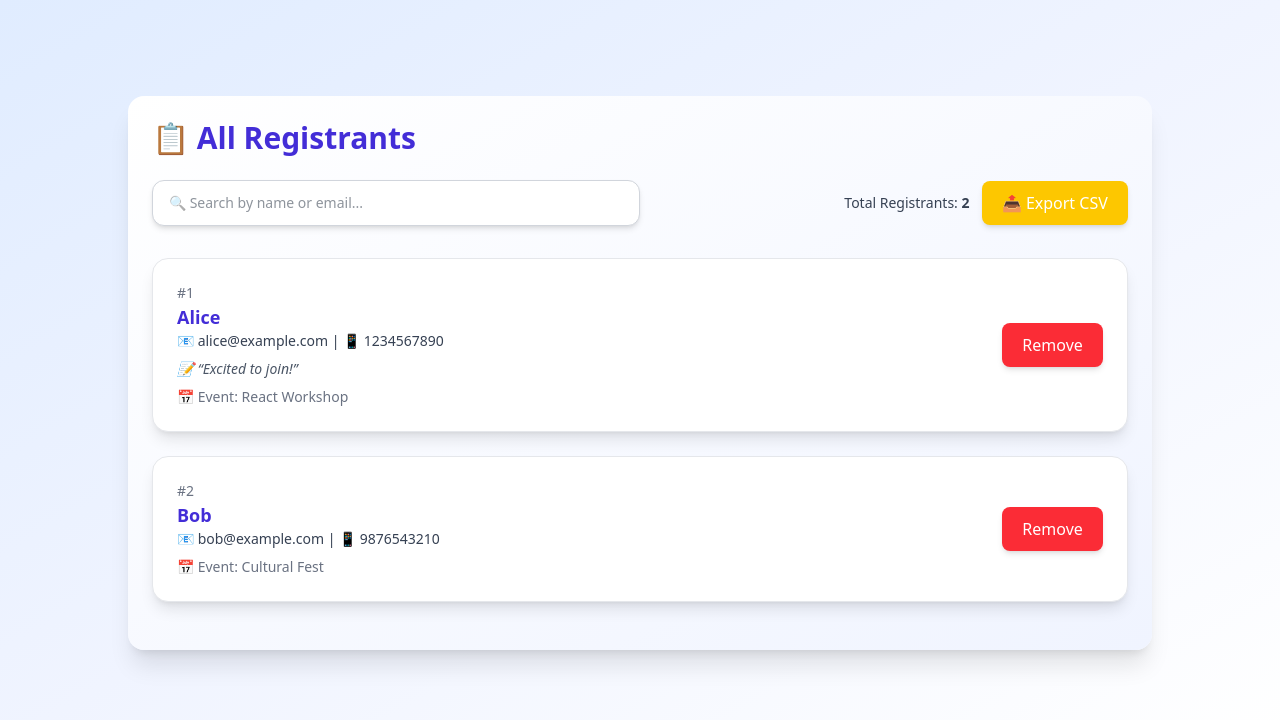
Test: AllRegistrants › removes a single registrant
The image size is (1280, 720).
Check: the text "Alice" is shown, box [177,305,220,329]
What coordinates should you click on to do the following:
click the button with test id "remove-1"
I would click on:
 (1053, 345)
Its box is [1002,323,1103,367].
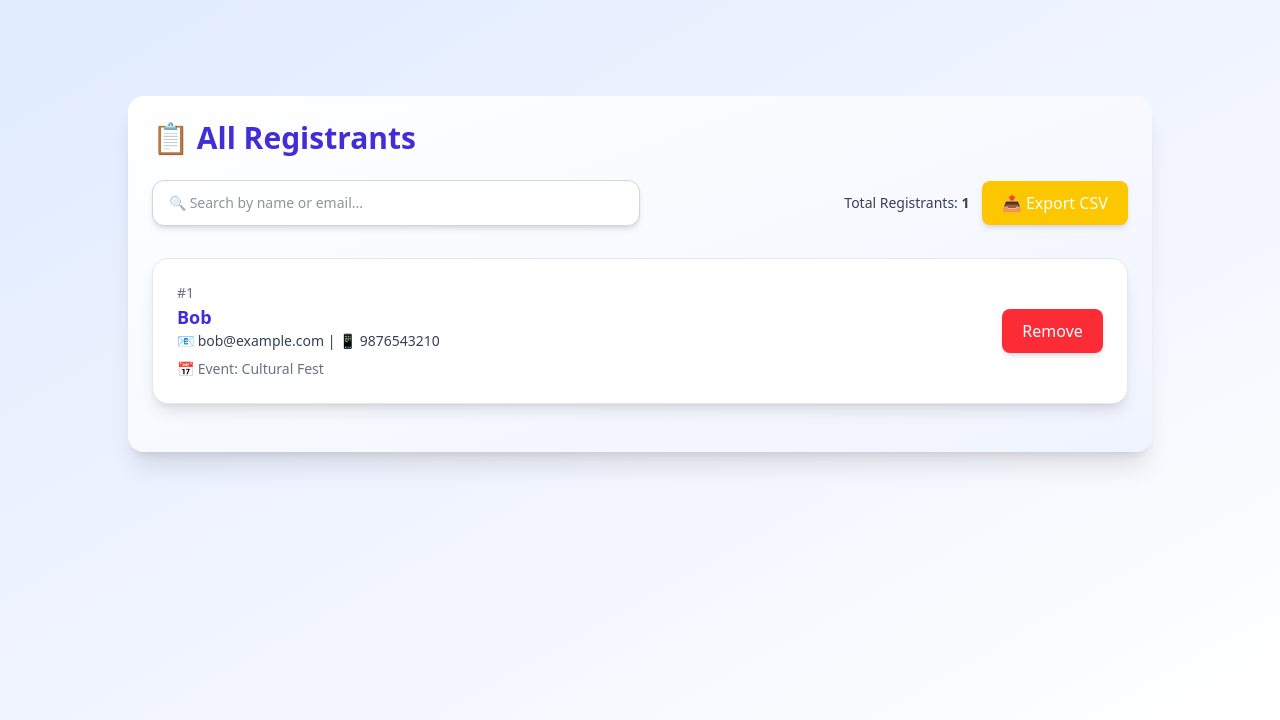
Check: the text "Alice" is gone
